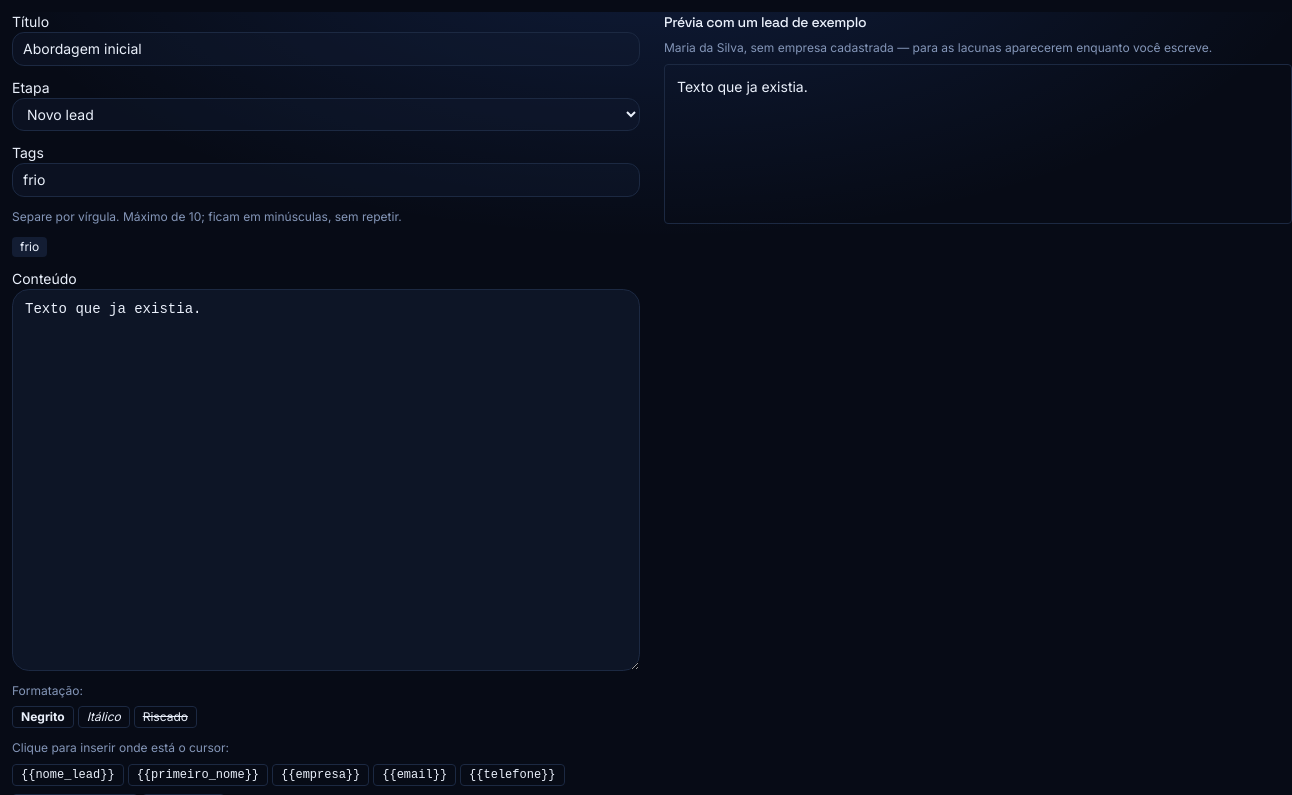
Test case: Editor de script › Caso 3b: sem cursor nunca posicionado, a variavel vai para o FIM e nao para o topo
Click the button named "Inserir empresa" at (321, 775), box 272,764 -> 369,786
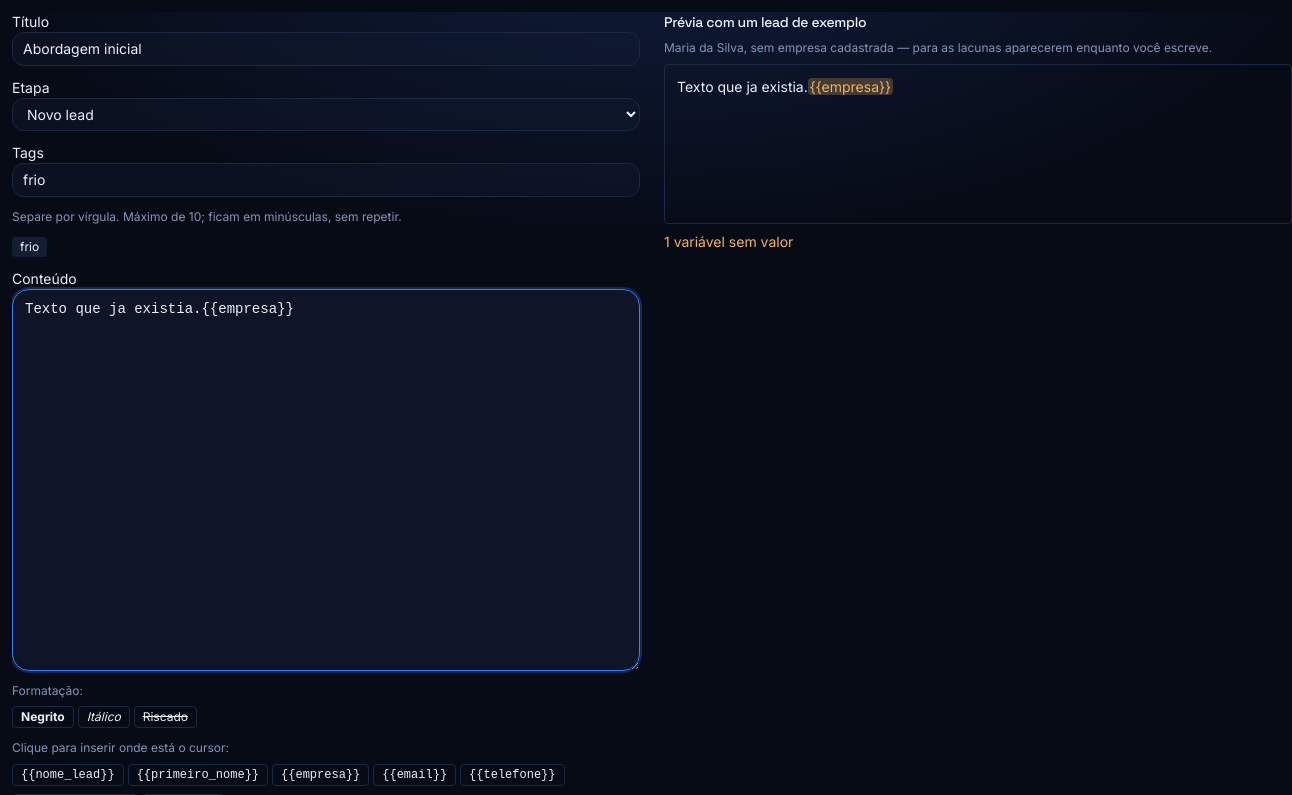
Expected: the text box labelled "Conteúdo" holds "Texto que ja existia.{{empresa}}", 12,289 -> 640,671
Click the button named "Inserir email" at (415, 775), box 373,764 -> 456,786
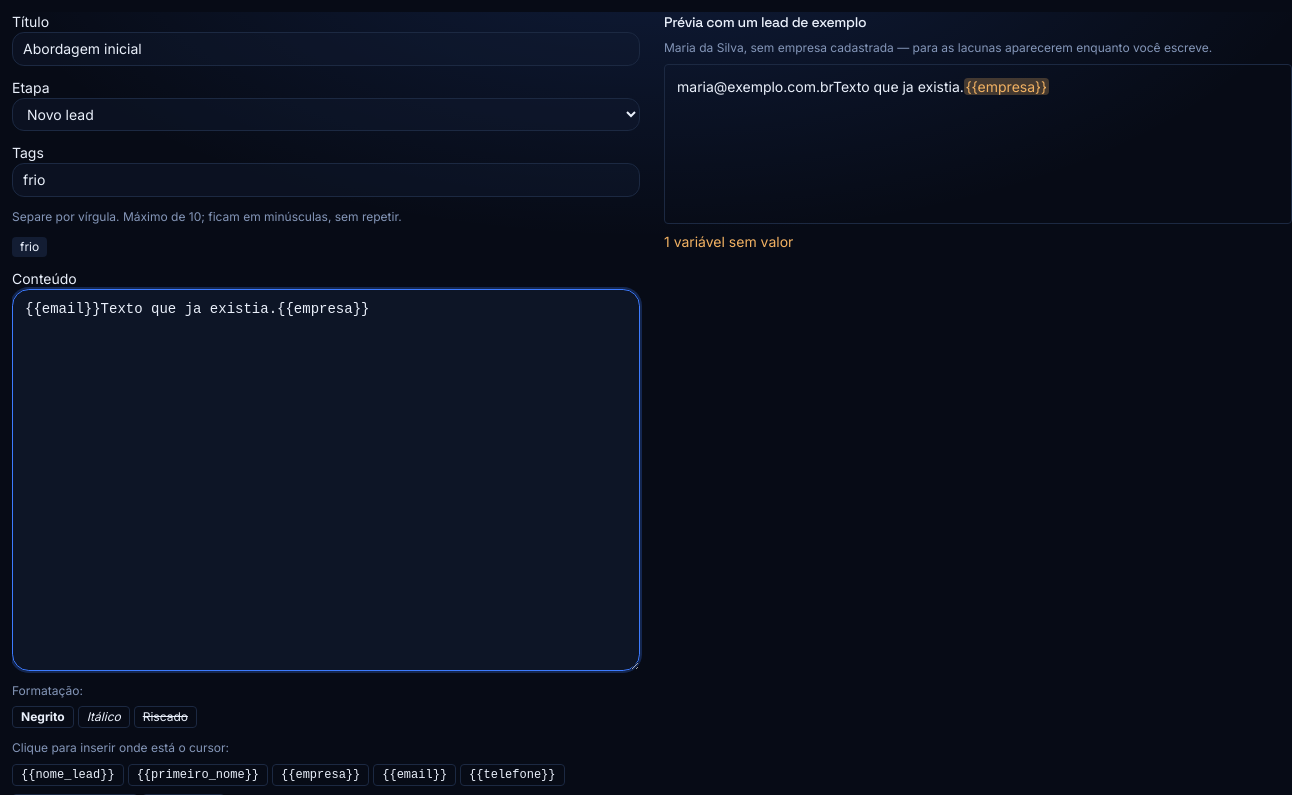
Expected: the text box labelled "Conteúdo" holds "{{email}}Texto que ja existia.{{empresa}}", 12,289 -> 640,671
